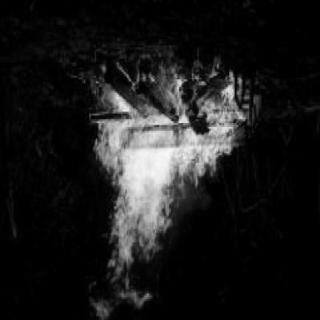Fire: (79, 54, 253, 320)
